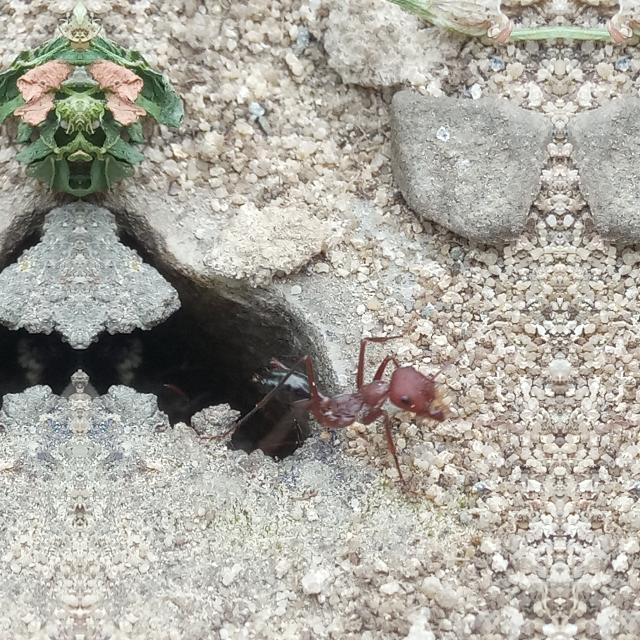Cataglyphis: (236, 316, 468, 484)
